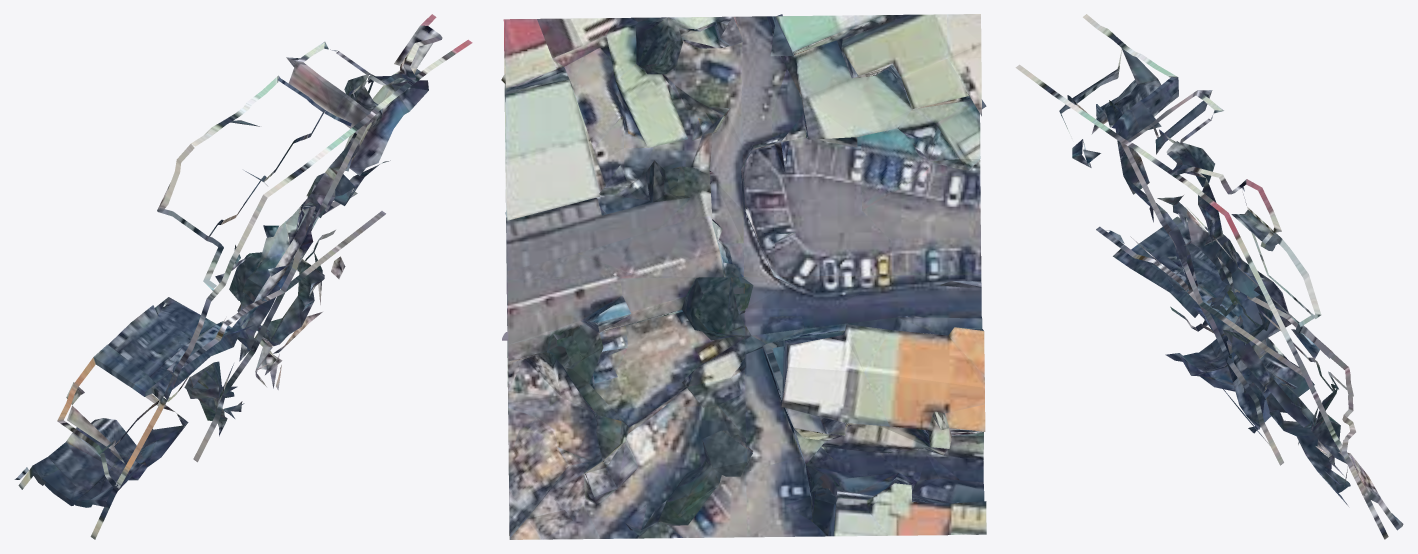
The picture shows the model from 3 angles, left to right: view 1: azimuth 30°, elevation 25°; view 2: azimuth 150°, elevation 25°; view 3: azimuth 270°, elevation 25°; orthographic projection. The views are drawn at different scales.
Bounding box in the file's own units: 83.74 × 75.9 × 66.37.
Materials: 2 (2 with a texture image).
